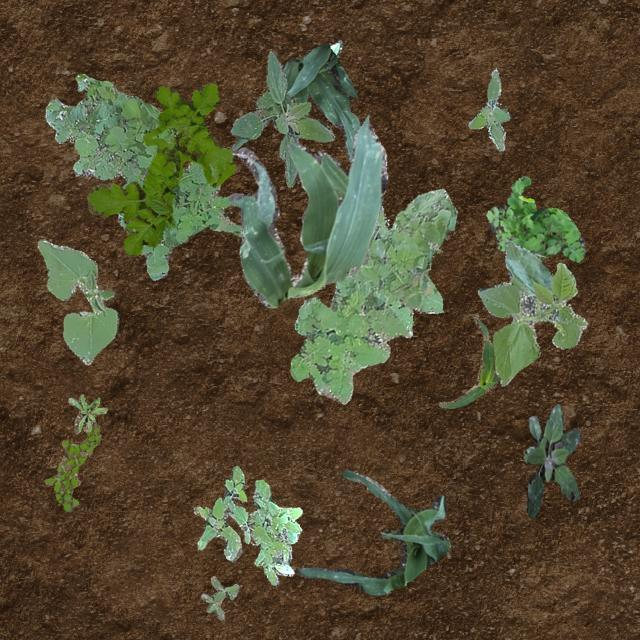crop: (228, 115, 386, 308), (296, 468, 450, 596), (476, 240, 586, 384), (228, 42, 360, 162), (36, 238, 118, 364), (438, 312, 500, 408), (328, 40, 342, 56)
weed: (44, 73, 242, 280), (288, 188, 456, 402), (86, 80, 234, 256), (230, 50, 334, 186), (192, 464, 302, 584), (486, 176, 584, 262), (522, 402, 580, 516), (42, 424, 100, 511), (468, 68, 510, 150), (200, 576, 238, 618), (66, 392, 105, 432)
